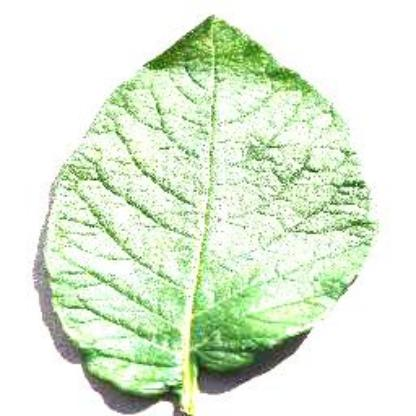Healthy-plant: (38, 12, 402, 402)
